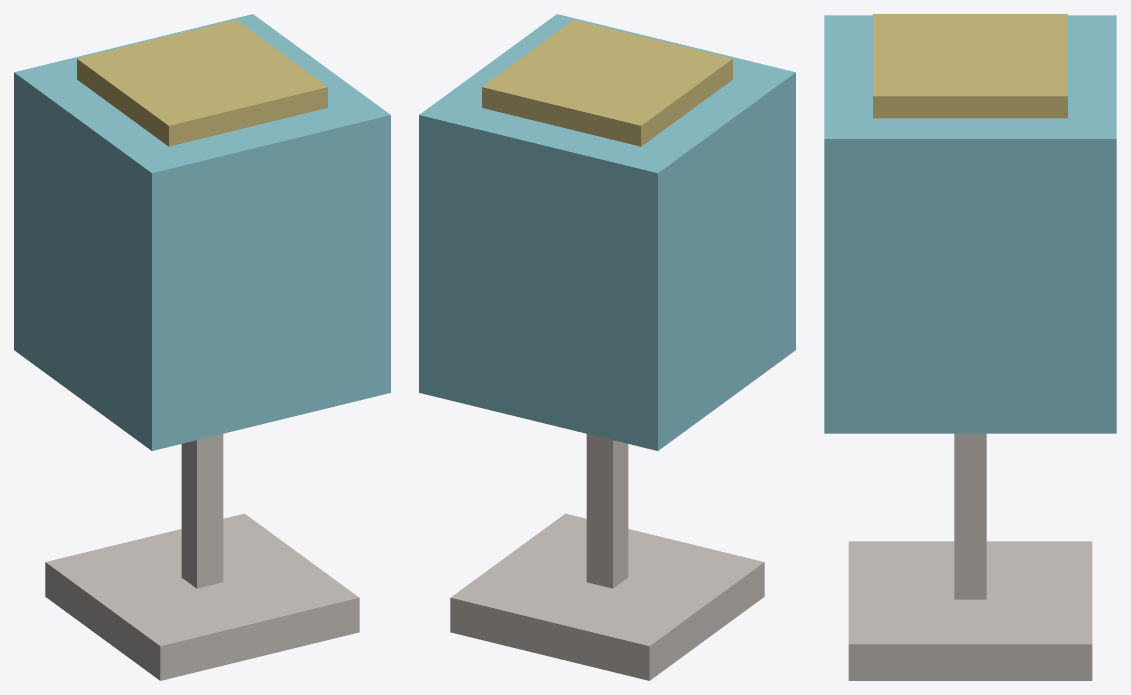
Rendered from lamp_iridescence.glb.
The picture shows the model from 3 angles, left to right: view 1: azimuth 30°, elevation 25°; view 2: azimuth 150°, elevation 25°; view 3: azimuth 270°, elevation 25°; orthographic projection. The views are drawn at different scales.
Size of the model in its own units: 0.36 by 0.78 by 0.36.
